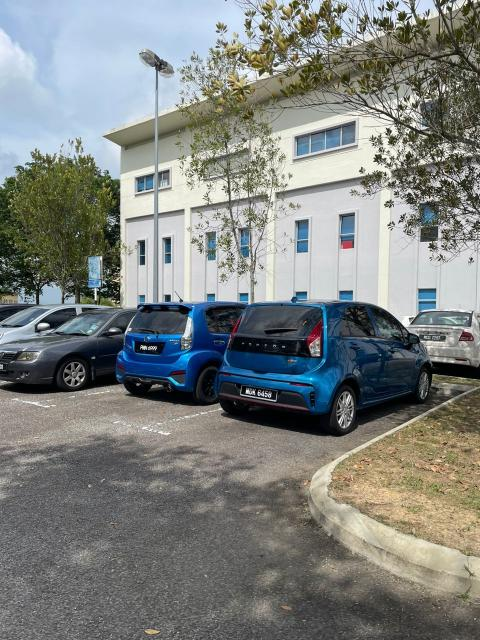License_Plate: (235, 379, 283, 407), (134, 338, 166, 356)
car: (218, 302, 437, 437), (119, 302, 263, 405), (1, 307, 147, 389), (402, 304, 480, 374)
